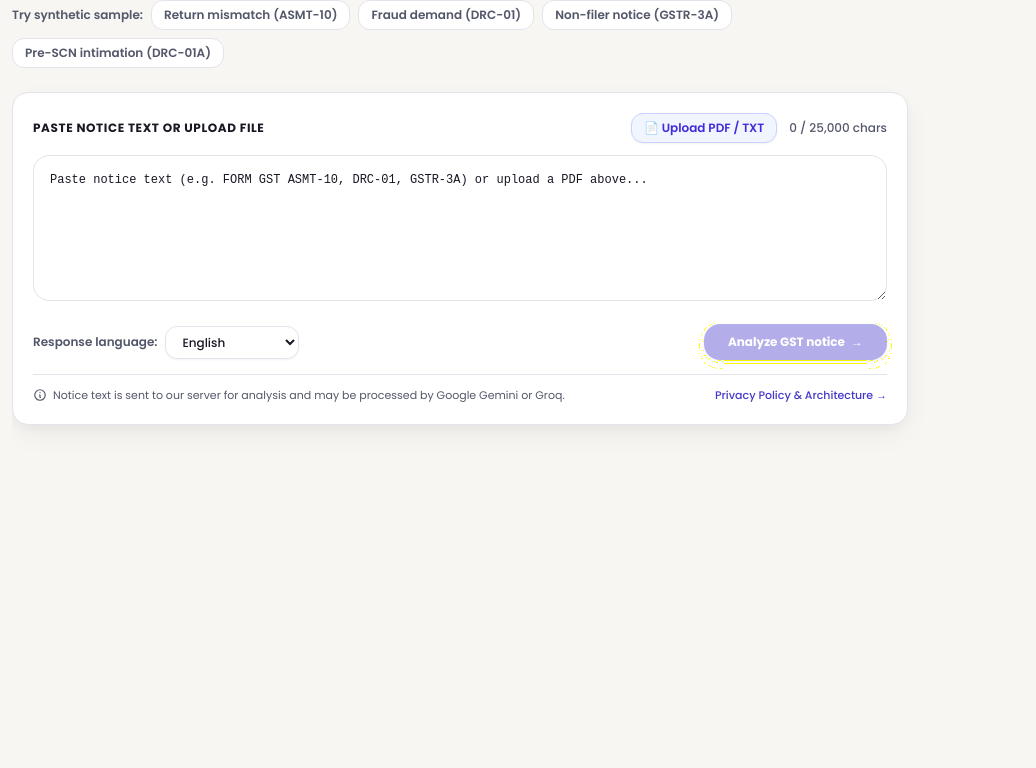
Test: NoticeAnalyzer Component › renders uncertain deadline badge when deadline info is missing or uncertain
Click the button with test id "sample-asmt10-btn": (251, 15) top-left (151, 0), bottom-right (350, 30)
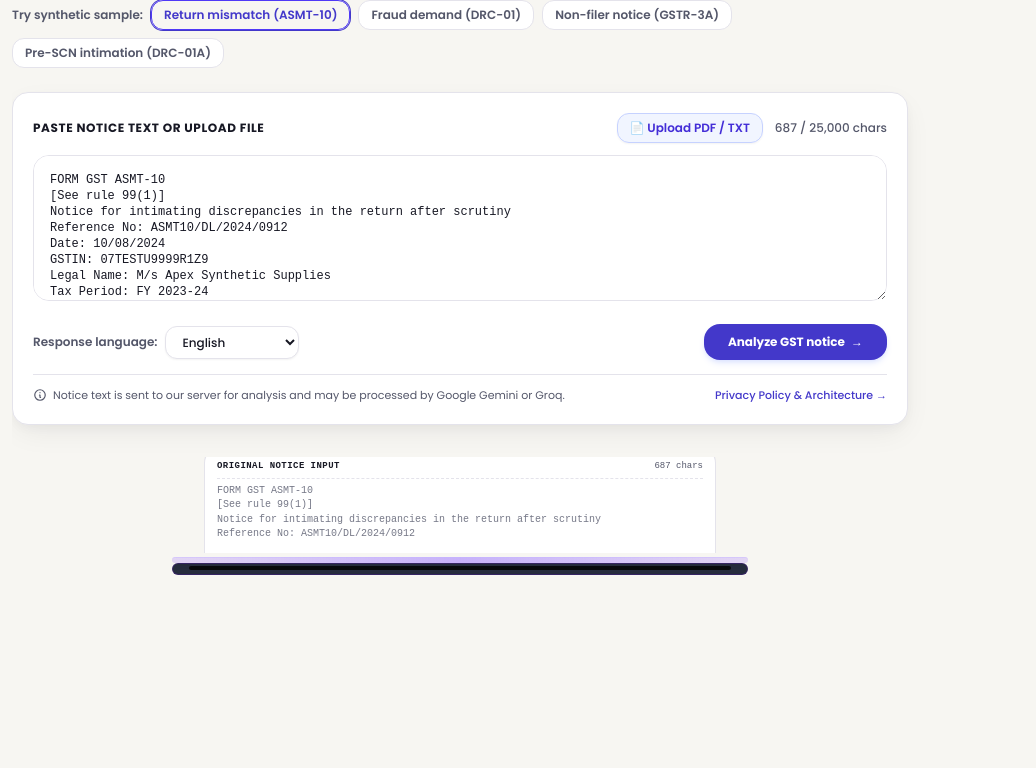
Click the button with test id "analyze-notice-btn": (795, 342) top-left (704, 324), bottom-right (887, 360)
(page scrolled)
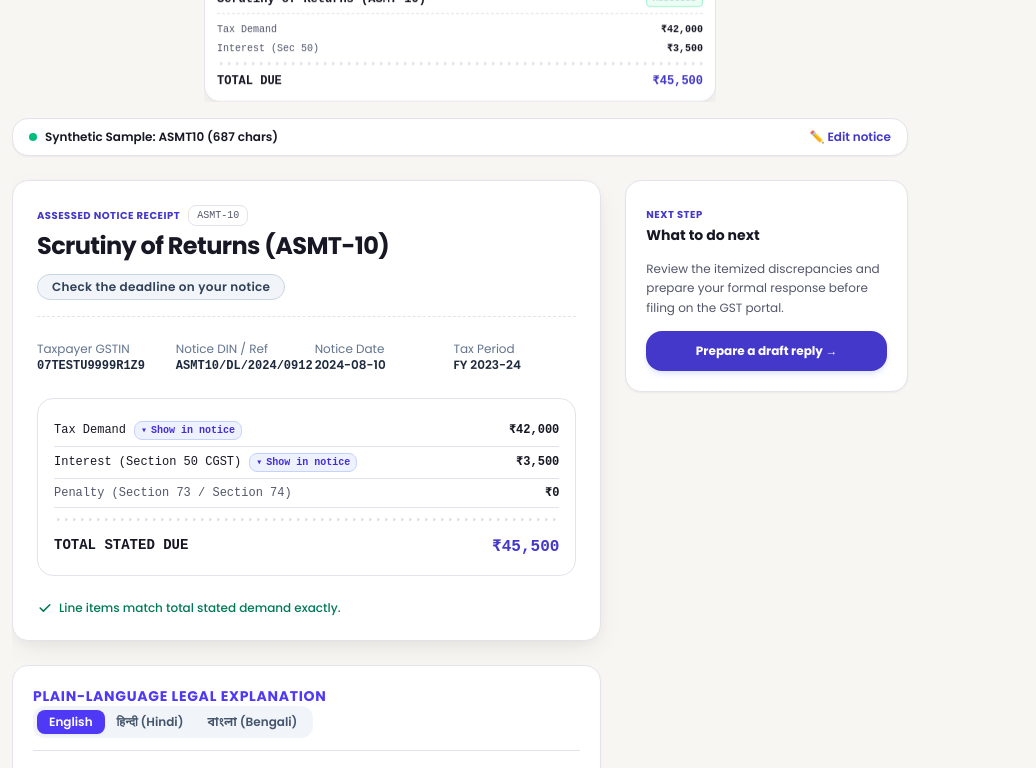
expect the text "Check the deadline on your notice" is shown: met, box top-left (37, 274), bottom-right (285, 300)
expect the text with test id "deadline-badge-uncertain" reads "Check the deadline on your notice": met, box top-left (52, 278), bottom-right (270, 294)
